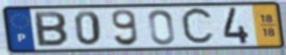0: (147, 8, 177, 46), (73, 10, 102, 47)
4: (222, 6, 252, 46)
9: (110, 9, 141, 48)
B: (32, 10, 70, 48)
C: (178, 6, 216, 48)
